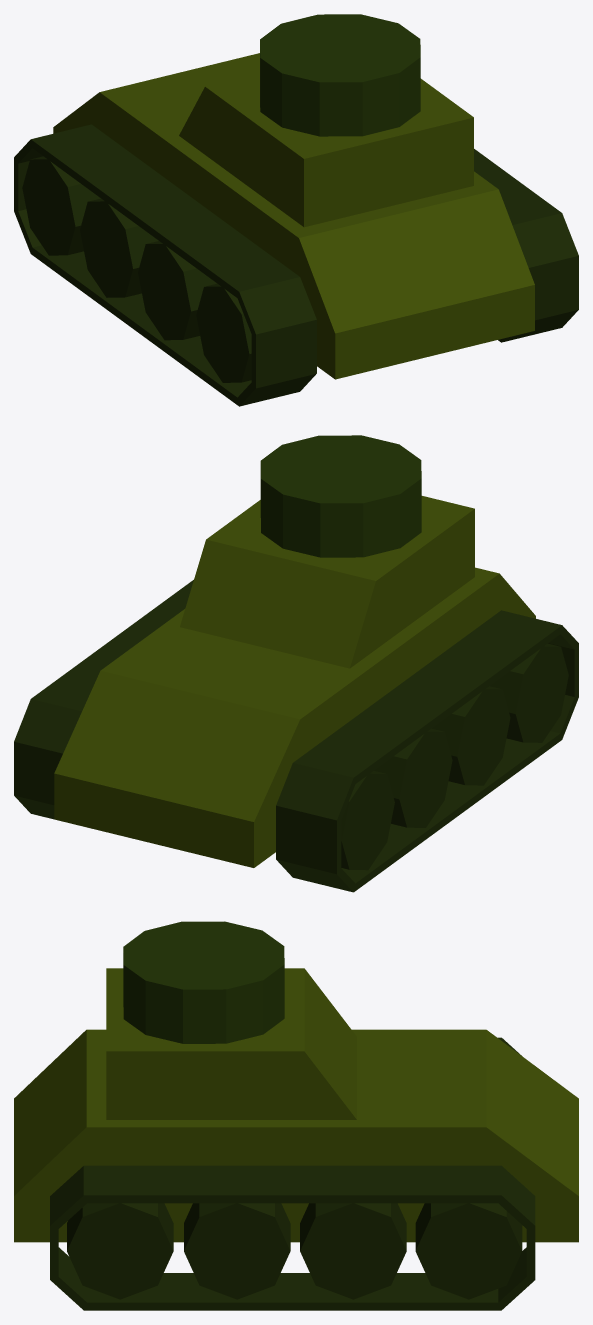
Rendered from TestTank.fbx.
3 views of the same model, one above another, from view 1: azimuth 30°, elevation 25°; view 2: azimuth 150°, elevation 25°; view 3: azimuth 270°, elevation 25° (orthographic).
Visible parts, largest first — view 1: Cube.002, Cube, Cylinder, Cube.001; view 2: Cube.002, Cube, Cylinder, Cube.001; view 3: Cube.002, Cube.001, Cylinder.
Boxes of the visible parts, x1,y1,x2,y2 form: Cube.002: [53, 53, 534, 379]; Cube: [14, 124, 316, 406]; Cylinder: [260, 14, 420, 136]; Cube.001: [474, 149, 578, 342]; Cube.002: [54, 496, 535, 867]; Cube: [276, 610, 578, 892]; Cylinder: [260, 435, 421, 557]; Cube.001: [14, 580, 193, 819]; Cube.002: [14, 968, 578, 1242]; Cube.001: [50, 1165, 535, 1310]; Cylinder: [123, 921, 284, 1043].
Bounding box in the file's own units: 1.62 × 1.32 × 2.45.
